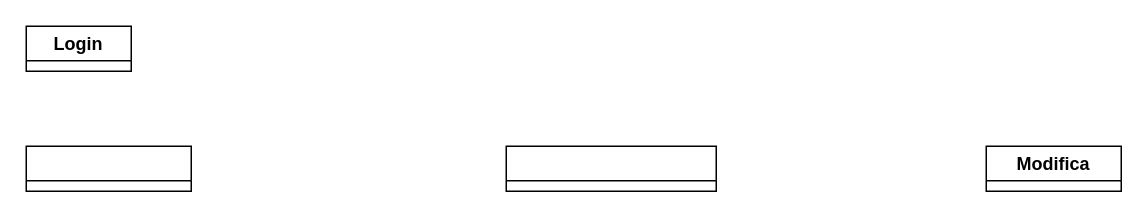
The diagram is 1148 pixels wide and 218 high, and some of its shapes have lost their labels. Each missing label, with the centre of its shape:
Home page: the point at 108,168
Pagina statistiche: the point at 610,168
